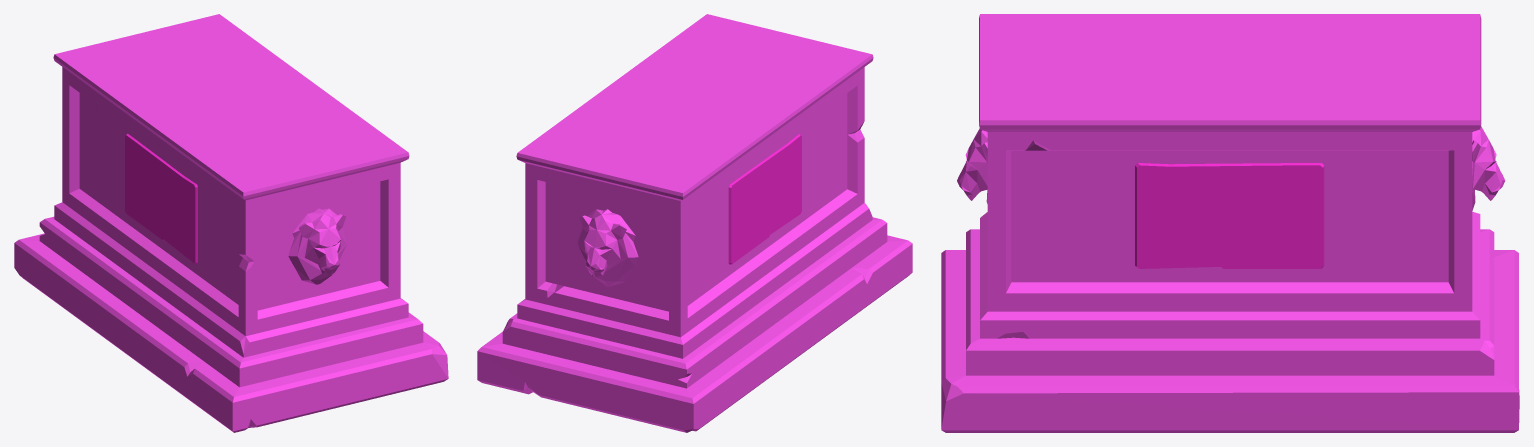
Rendered from SM_Pedestal_Long_A_Fantasy.fbx.
The picture shows the model from 3 angles, left to right: view 1: azimuth 30°, elevation 25°; view 2: azimuth 150°, elevation 25°; view 3: azimuth 270°, elevation 25°; orthographic projection. The views are drawn at different scales.
Parts seen in each view (by area): view 1: SM_Pedestal_Long_A_Fantasy; view 2: SM_Pedestal_Long_A_Fantasy; view 3: SM_Pedestal_Long_A_Fantasy.
Boxes of the visible parts, left/top/right/bottom form: SM_Pedestal_Long_A_Fantasy: left=14, top=14, right=448, bottom=432; SM_Pedestal_Long_A_Fantasy: left=477, top=14, right=912, bottom=432; SM_Pedestal_Long_A_Fantasy: left=941, top=14, right=1519, bottom=432.
Bounding box in the file's own units: 2.05 × 2.04 × 3.59.
